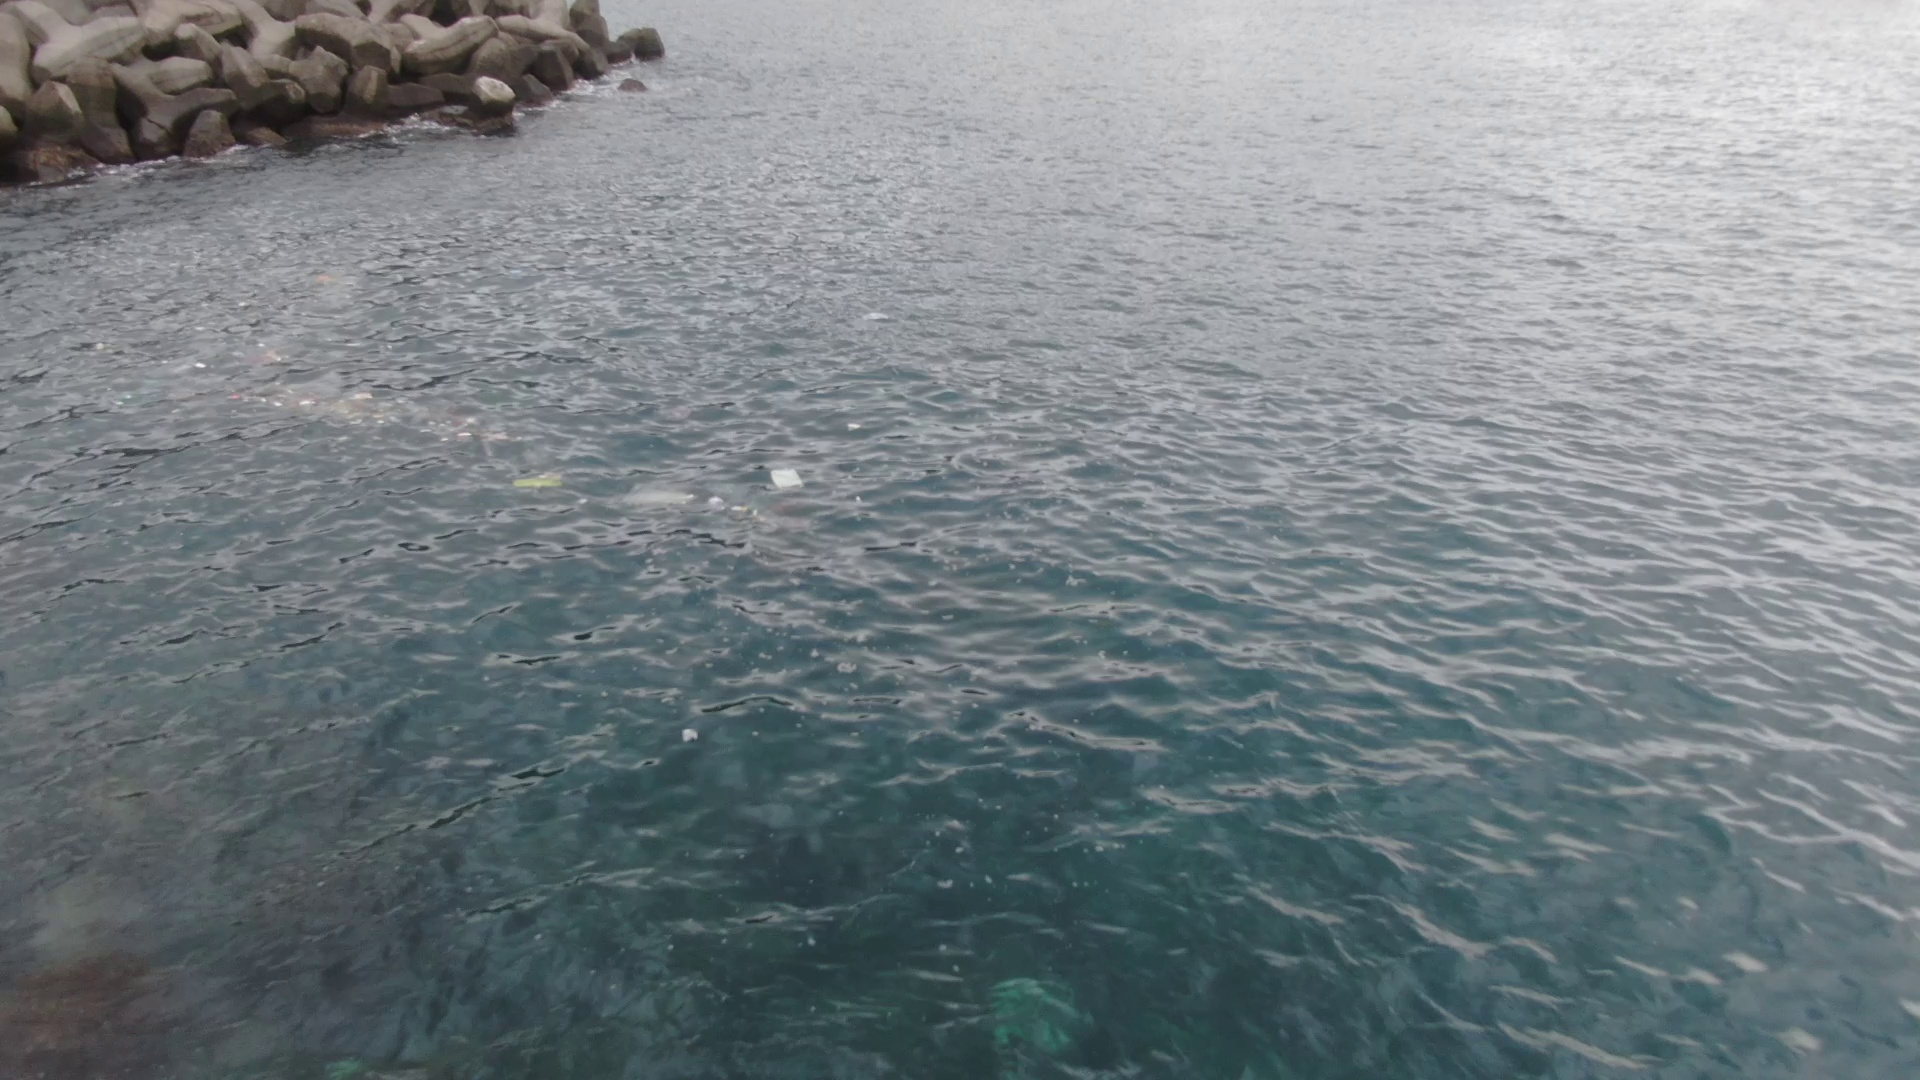garbage: (761, 463, 812, 501)
